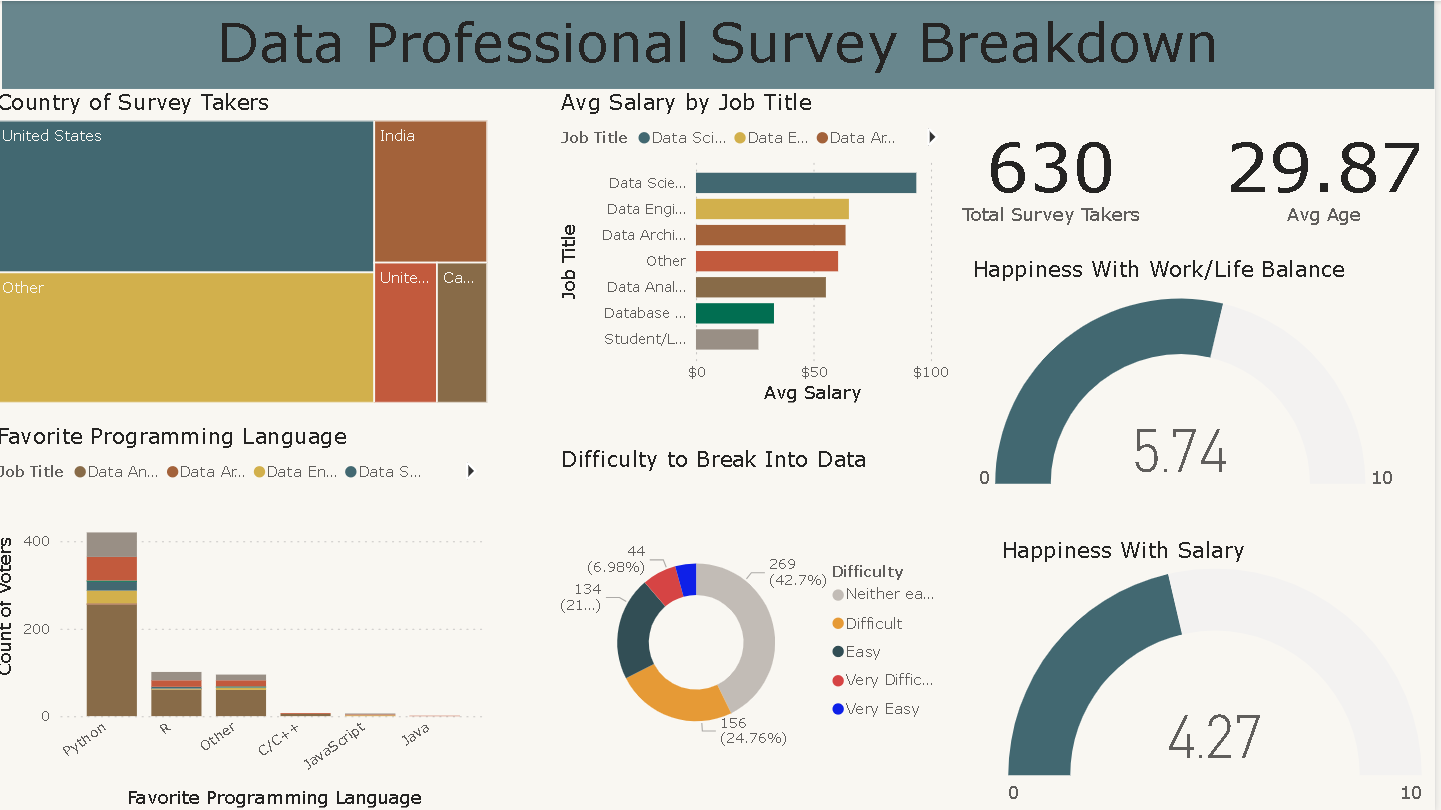

The dashboard page shown, as its layout file describes it:
{"tool":"powerbi","page":{"name":"Page 1","canvas":[1280,720],"ordinal":0},"visuals":[{"type":"textbox","box":[9.7,0,1270.1,77.7],"z":0},{"type":"card","fields":{"Values":["Count(Data Professional Survey.Unique ID)"]},"box":[854.3,77.7,171.5,148.9],"z":1000},{"type":"card","fields":{"Values":["Avg(Data Professional Survey.Q10 - Current Age)"]},"box":[1085.7,77.7,194.2,148.9],"z":2000},{"type":"barChart","title":"Avg Salary by Job Title","fields":{"Category":["Data Professional Survey.Q1 - Which Title Best Fits your Current Role?.1"],"Y":["Avg(Data Professional Survey.Average Salary)"],"Series":["Data Professional Survey.Q1 - Which Title Best Fits your Current Role?.1"]},"box":[500,77.7,354.3,283.1],"z":3000},{"type":"columnChart","title":"Favorite Programming Language","fields":{"Category":["Data Professional Survey.Q5 - Favorite Programming Language.1"],"Y":["CountNonNull(Data Professional Survey.Unique ID)"],"Series":["Data Professional Survey.Q1 - Which Title Best Fits your Current Role?.1"]},"box":[0,373.8,444.9,346.2],"z":3001},{"type":"treemap","title":"Country of Survey Takers","fields":{"Group":["Data Professional Survey.Q11 - Which Country do you live in?.1"],"Values":["CountNonNull(Data Professional Survey.Q11 - Which Country do you live in?.1)"]},"box":[0,77.7,444.9,283.1],"z":3002},{"type":"gauge","title":"Happiness With Work/Life Balance","fields":{"Y":["Avg(Data Professional Survey.Q6 - How Happy are you in your Current Position with the following? (Work/Life Balance))"],"MinValue":["Min(Data Professional Survey.Q6 - How Happy are you in your Current Position with the following? (Work/Life Balance))"],"MaxValue":["Max(Data Professional Survey.Q6 - How Happy are you in your Current Position with the following? (Work/Life Balance))"]},"box":[865.6,226.5,388.3,221.7],"z":3003},{"type":"gauge","title":"Happiness With Salary","fields":{"Y":["Avg(Data Professional Survey.Q6 - How Happy are you in your Current Position with the following? (Salary))"],"MinValue":["Min(Data Professional Survey.Q6 - How Happy are you in your Current Position with the following? (Salary))"],"MaxValue":["Max(Data Professional Survey.Q6 - How Happy are you in your Current Position with the following? (Salary))"]},"box":[891.5,475.7,388.3,244.3],"z":3004},{"type":"donutChart","title":"Difficulty to Break Into Data","fields":{"Category":["Data Professional Survey.Q7 - How difficult was it for you to break into Data?"],"Y":["CountNonNull(Data Professional Survey.Q7 - How difficult was it for you to break into Data?)"]},"box":[500,394.8,354.3,325.2],"z":3005}]}

Visuals, with their boxes in screenshot pixels (x1, y1, x2, y2), scaled from the page's 1280x720 canvas onto the 1441x810 screenshot:
textbox: 11/0/1440/87
card - Count(Data Professional Survey.Unique ID): 962/87/1155/255
card - Avg(Data Professional Survey.Q10 - Current Age): 1222/87/1440/255
"Avg Salary by Job Title" barChart: 563/87/962/406
"Favorite Programming Language" columnChart: 0/421/501/809
"Country of Survey Takers" treemap: 0/87/501/406
"Happiness With Work/Life Balance" gauge: 974/255/1412/504
"Happiness With Salary" gauge: 1004/535/1440/809
"Difficulty to Break Into Data" donutChart: 563/444/962/809
